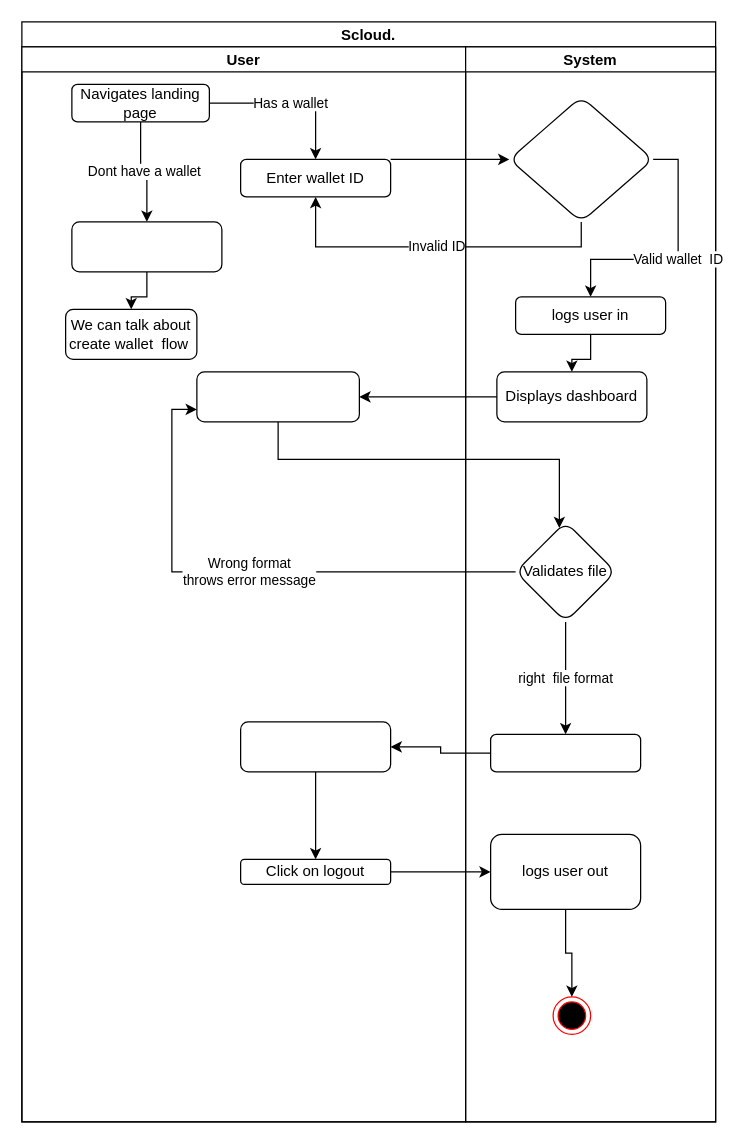
Some shapes in this 745 by 1144 pixel diagram are drawn without their labels. The shapes that lost their labels are listed below. From the top down, each one's centre as x and y in pixels, then its label:
the point at 580,159: Validates Wallet
the point at 146,246: Create a wallet
the point at 277,396: Uploads file
the point at 315,746: Receives a success massage.
the point at 565,752: saves file
